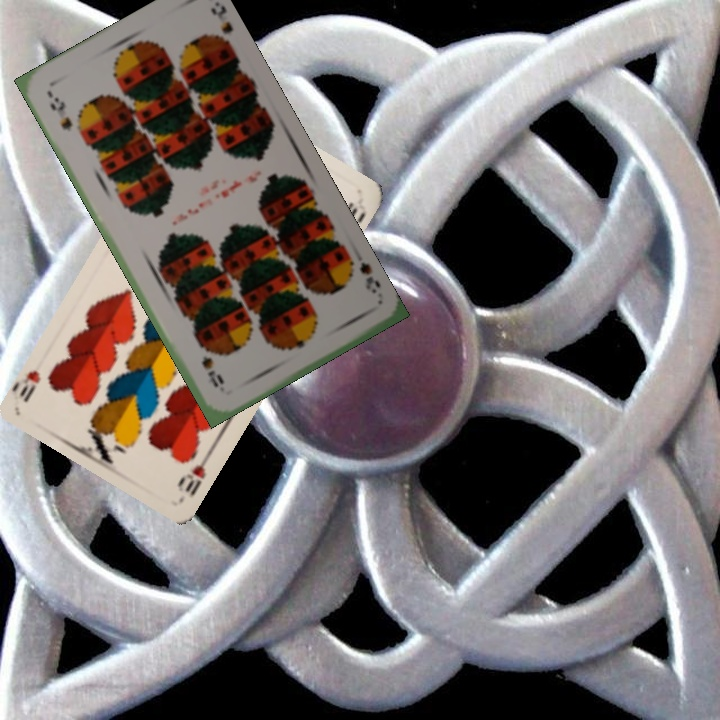H10: (174, 446, 215, 499)
S9: (340, 252, 384, 297), (43, 88, 75, 135)
